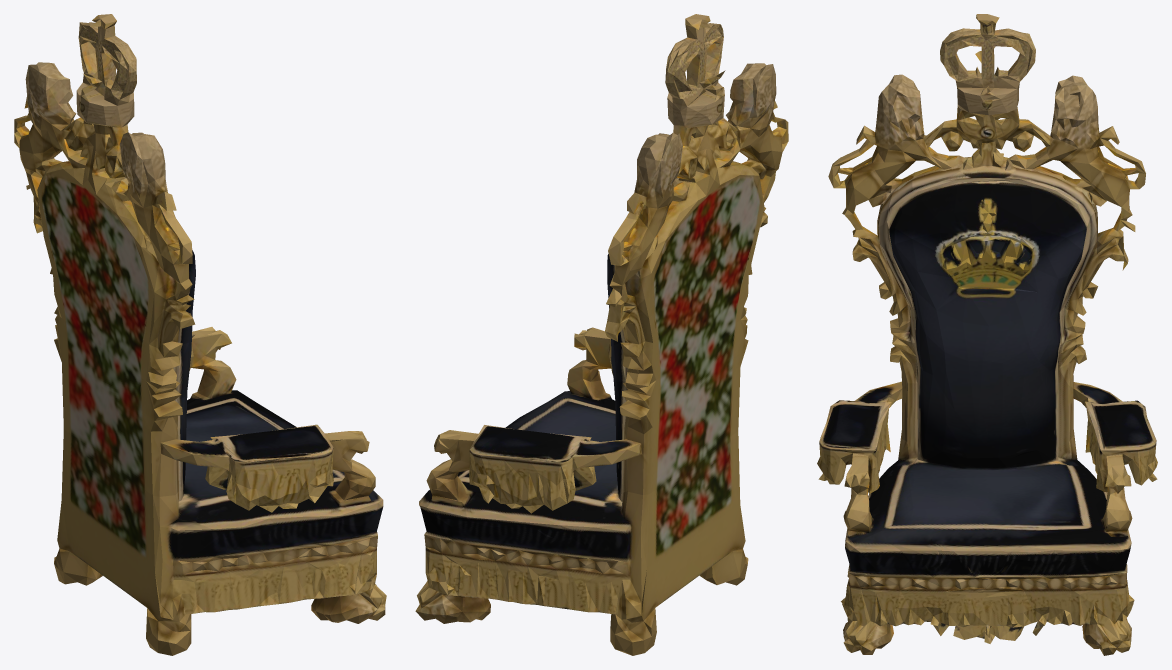
The model's file is throne.fbx.
The picture shows the model from 3 angles, left to right: view 1: azimuth 30°, elevation 25°; view 2: azimuth 150°, elevation 25°; view 3: azimuth 270°, elevation 25°; orthographic projection. The views are drawn at different scales.
Visible parts, largest first — view 1: tripo_node_51c2fcac; view 2: tripo_node_51c2fcac; view 3: tripo_node_51c2fcac.
Boxes of the visible parts, bbox=[...] form: tripo_node_51c2fcac: bbox=[14, 14, 386, 655]; tripo_node_51c2fcac: bbox=[415, 14, 788, 655]; tripo_node_51c2fcac: bbox=[817, 14, 1157, 655].
Size of the model in its own units: 0.4205 by 1 by 0.5603.
1 material, 1 textured.
